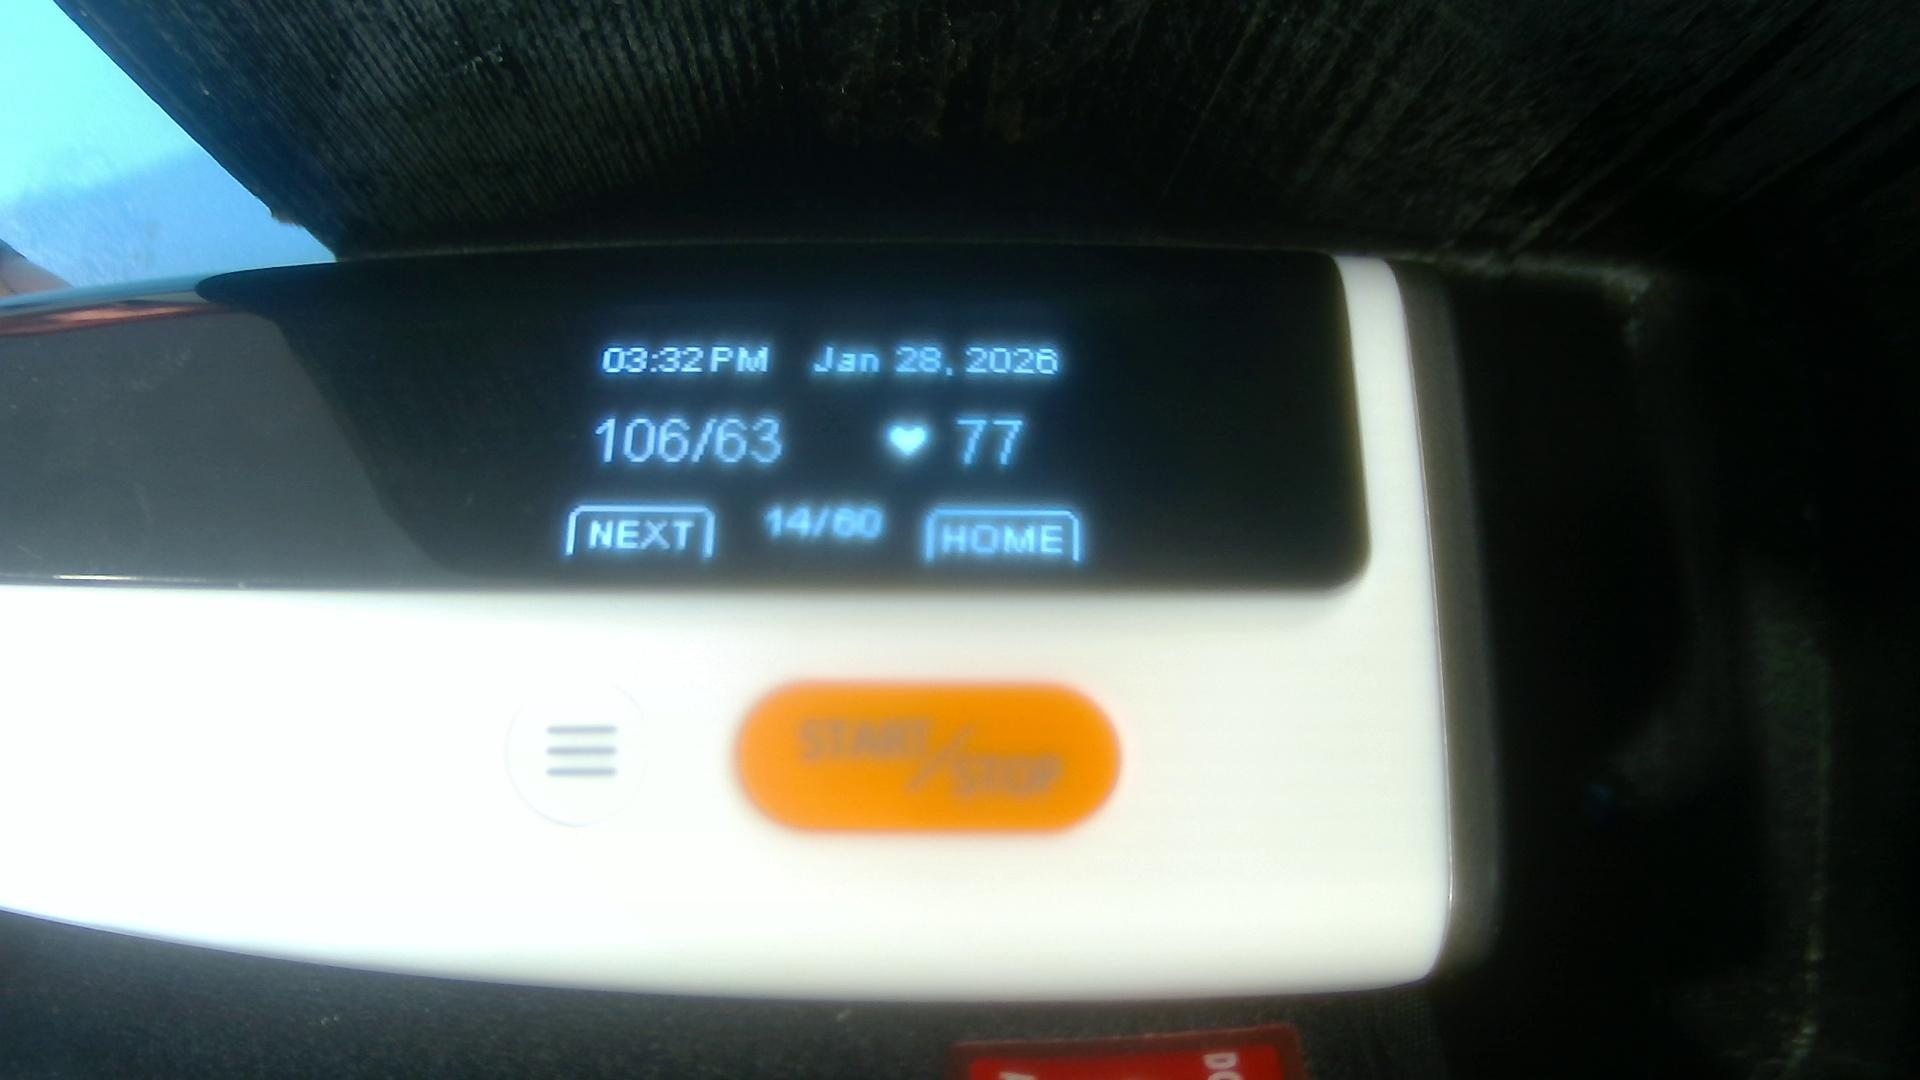DISPLAY: (24, 257, 1347, 584)
